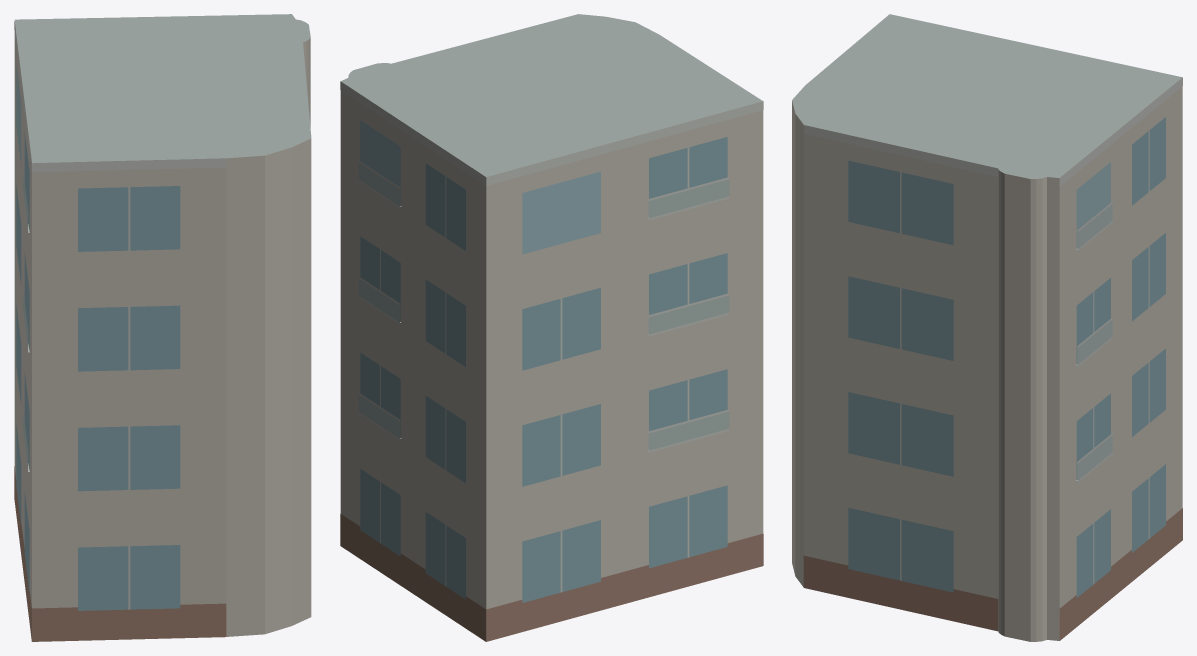
The model's file is survey-upis-32932569.glb.
3 views of the same model, side by side, from view 1: azimuth 30°, elevation 25°; view 2: azimuth 150°, elevation 25°; view 3: azimuth 270°, elevation 25° (orthographic). The views are drawn at different scales.
Parts seen in each view (by area): view 1: survey-upis-32932569.tmp; view 2: survey-upis-32932569.tmp; view 3: survey-upis-32932569.tmp.
Part boxes in pixels (bbox=[...]): survey-upis-32932569.tmp: bbox=[14, 14, 311, 641]; survey-upis-32932569.tmp: bbox=[340, 14, 763, 641]; survey-upis-32932569.tmp: bbox=[792, 14, 1182, 641].
Size of the model in its own units: 9.79 by 12.8 by 9.8.
